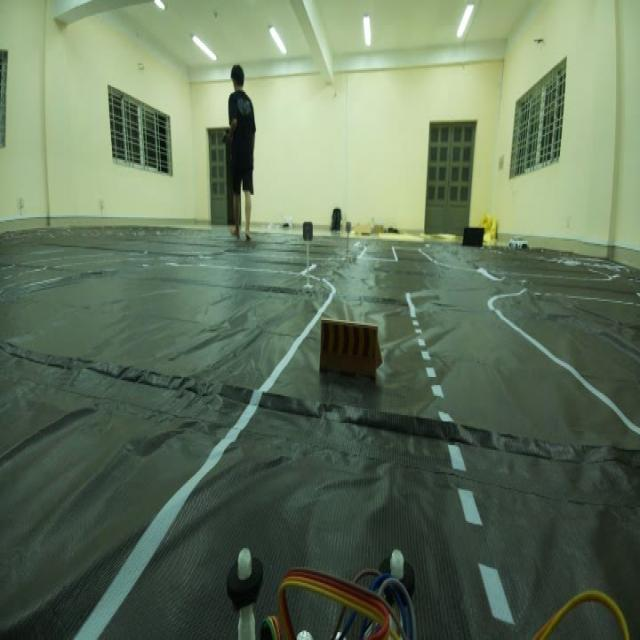roadblock: (312, 305, 392, 392)
